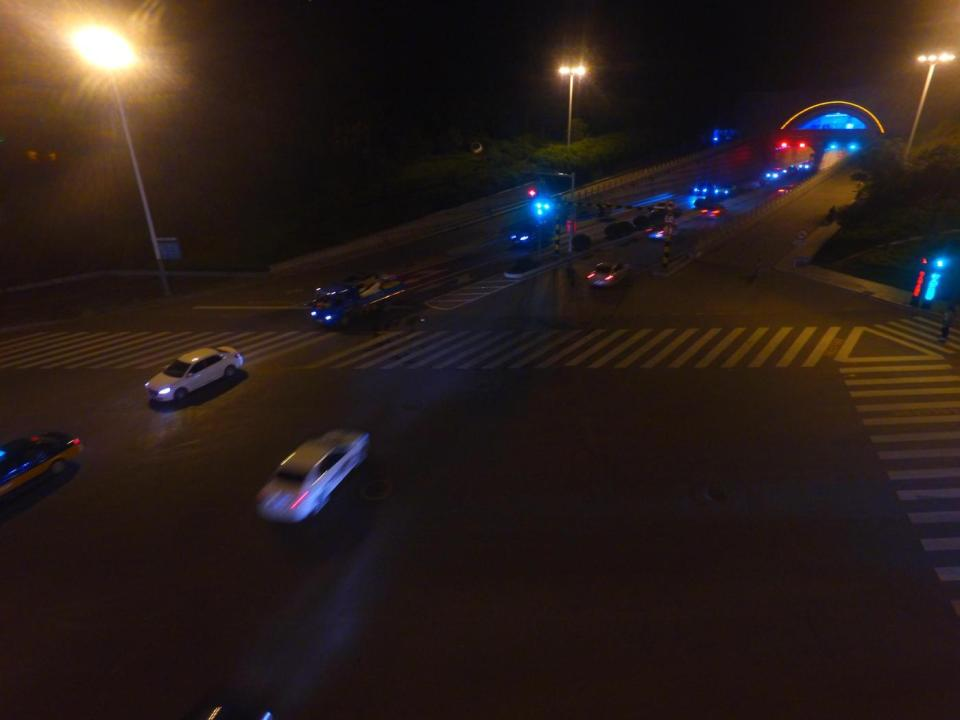car: (252, 430, 372, 521), (146, 346, 243, 407), (0, 429, 82, 500), (584, 262, 626, 288), (509, 224, 540, 246), (645, 222, 676, 243), (699, 203, 725, 219), (762, 166, 787, 182), (691, 180, 715, 195), (714, 180, 736, 195), (798, 157, 814, 172)
truck: (309, 268, 405, 327)
